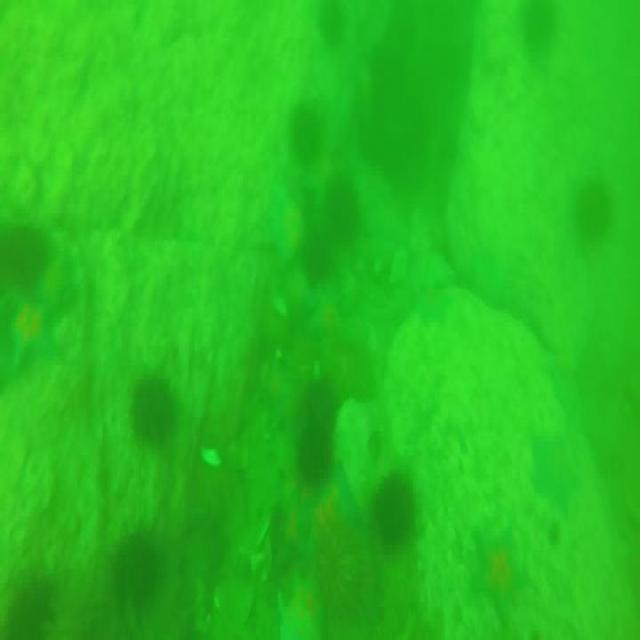echinus: (113, 528, 161, 613), (135, 376, 181, 449), (376, 479, 412, 545), (299, 433, 337, 493), (518, 3, 556, 62), (576, 179, 613, 237), (326, 180, 359, 245), (301, 379, 337, 436), (294, 104, 324, 164), (302, 234, 332, 281), (319, 0, 345, 44)
scallop: (198, 442, 220, 468)
starfish: (471, 515, 521, 607), (529, 428, 580, 509), (10, 288, 52, 370)
